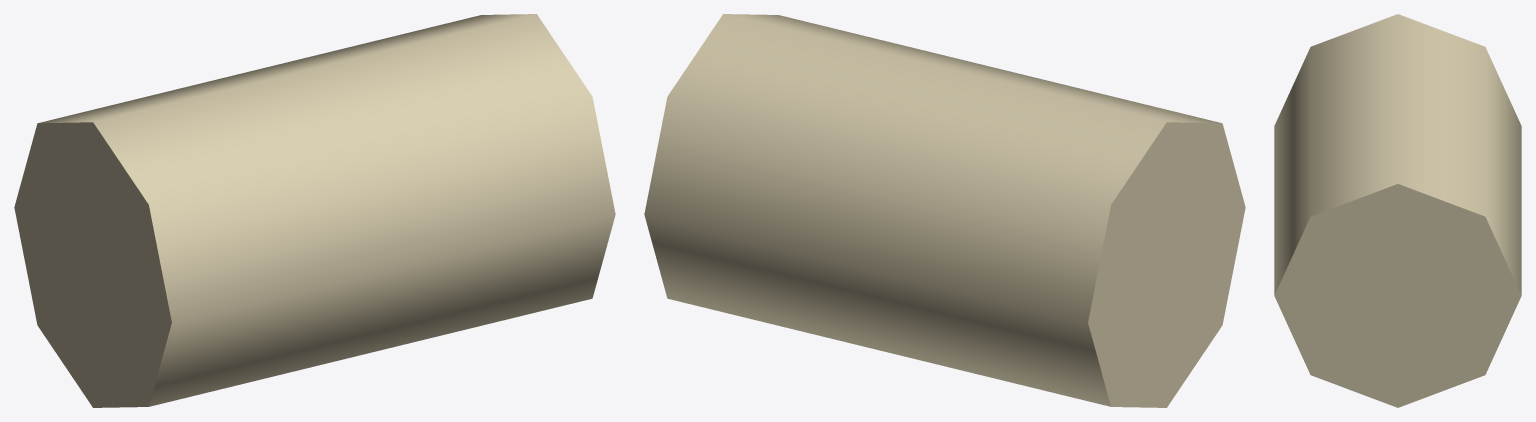
The model's file is hefe_pylon.obj.
3 renders of one model, left to right at view 1: azimuth 30°, elevation 25°; view 2: azimuth 150°, elevation 25°; view 3: azimuth 270°, elevation 25°, orthographic. The views are drawn at different scales.
Parts seen in each view (by area): view 1: hefe_pylon; view 2: hefe_pylon; view 3: hefe_pylon.
Boxes of the visible parts, x1,y1,x2,y2 form: hefe_pylon: [14, 14, 615, 407]; hefe_pylon: [644, 14, 1245, 407]; hefe_pylon: [1274, 14, 1521, 407].
Size of the model in its own units: 0.65 by 0.4 by 0.4.
